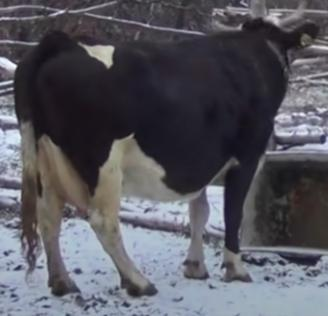cow: (13, 16, 321, 297)
